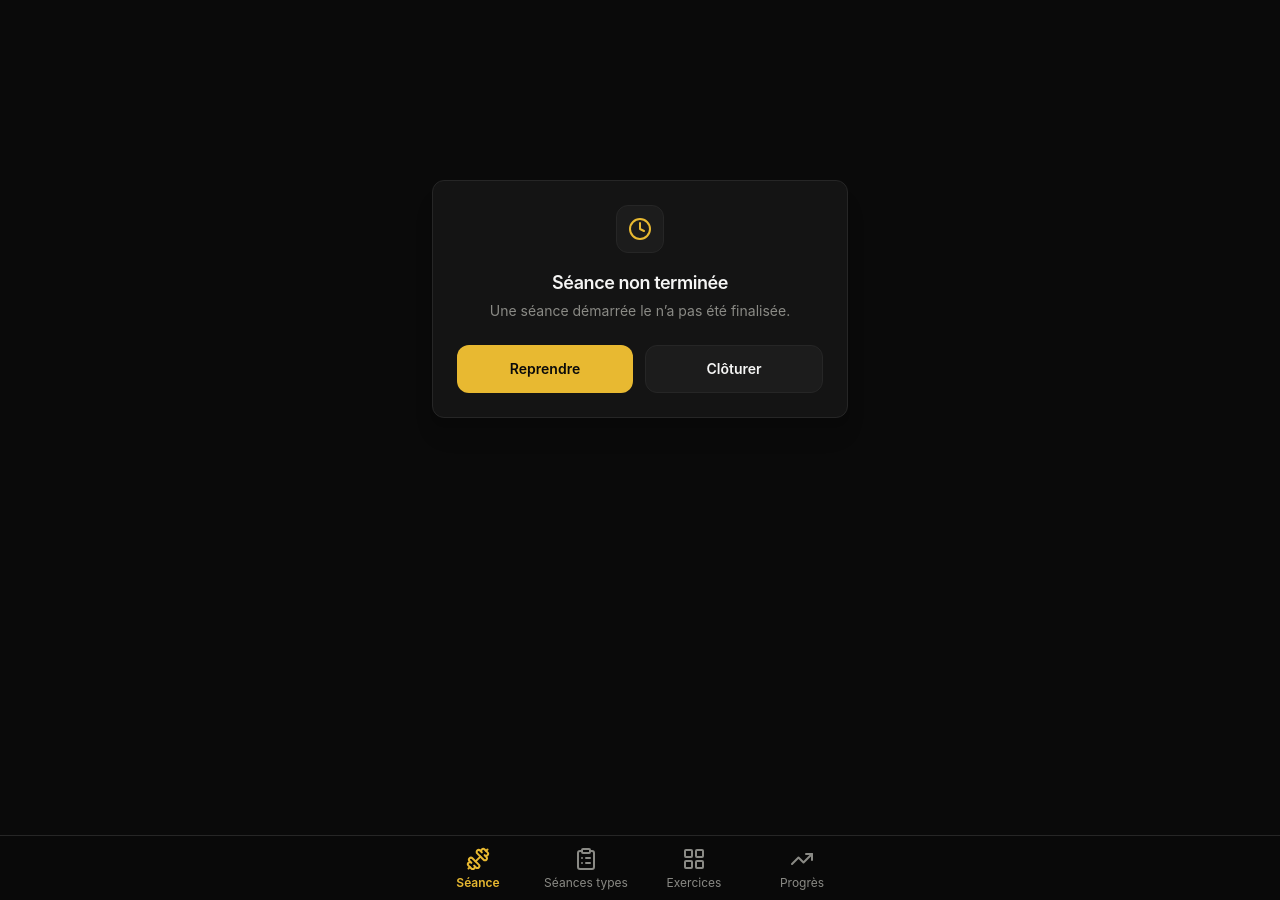
App navigation & TabBar › navigates to Exercices and back to Séance
Step 1. Click the tab "Exercices" → x=694, y=868, box [640,838,748,898]
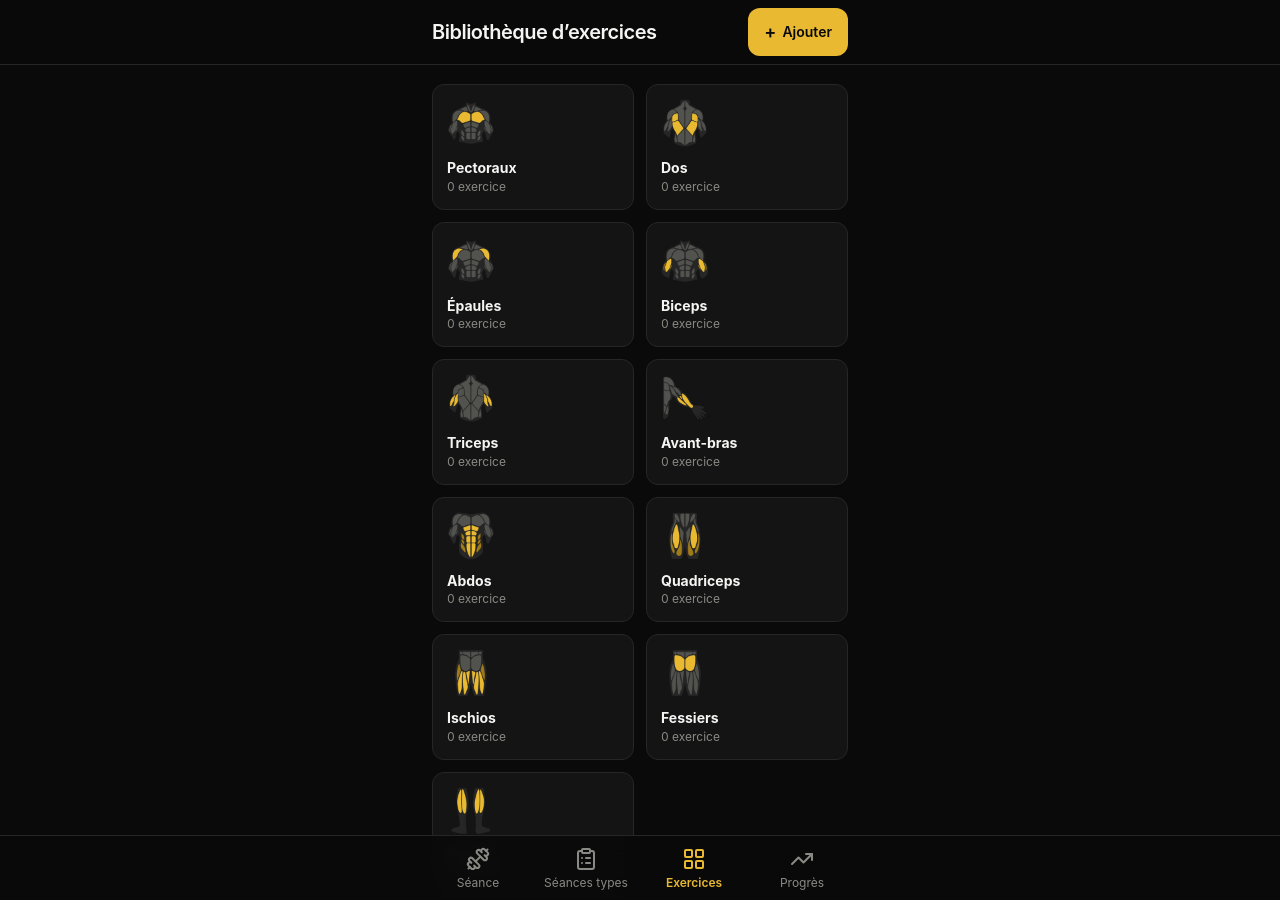
Expected: the heading "Bibliothèque d’exercices" is shown, [432,18,656,46]
Step 2. Click the tab "Séance" → x=478, y=868, box [424,838,532,898]
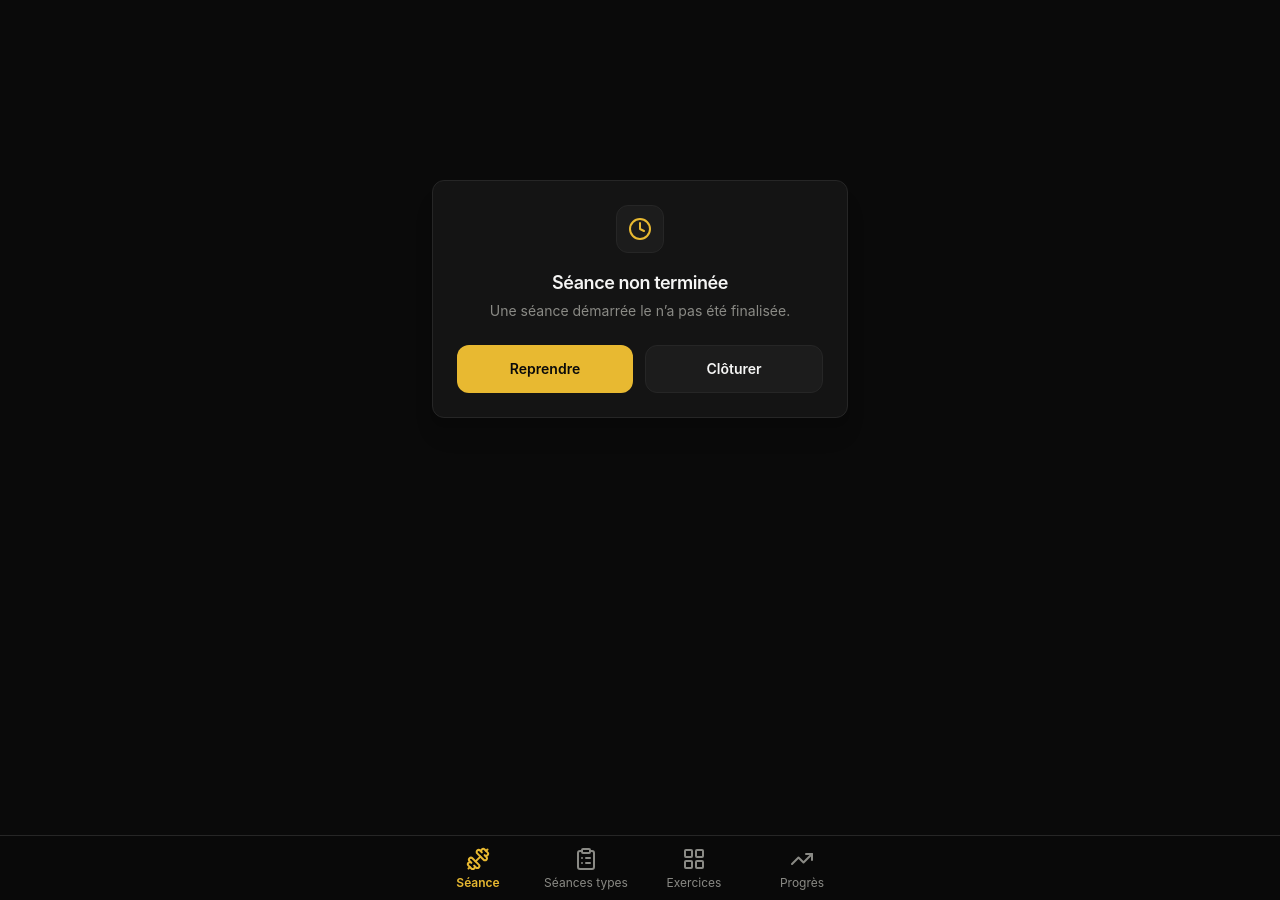
Expected: the heading "Séance non terminée" is shown, [552,272,728,293]
